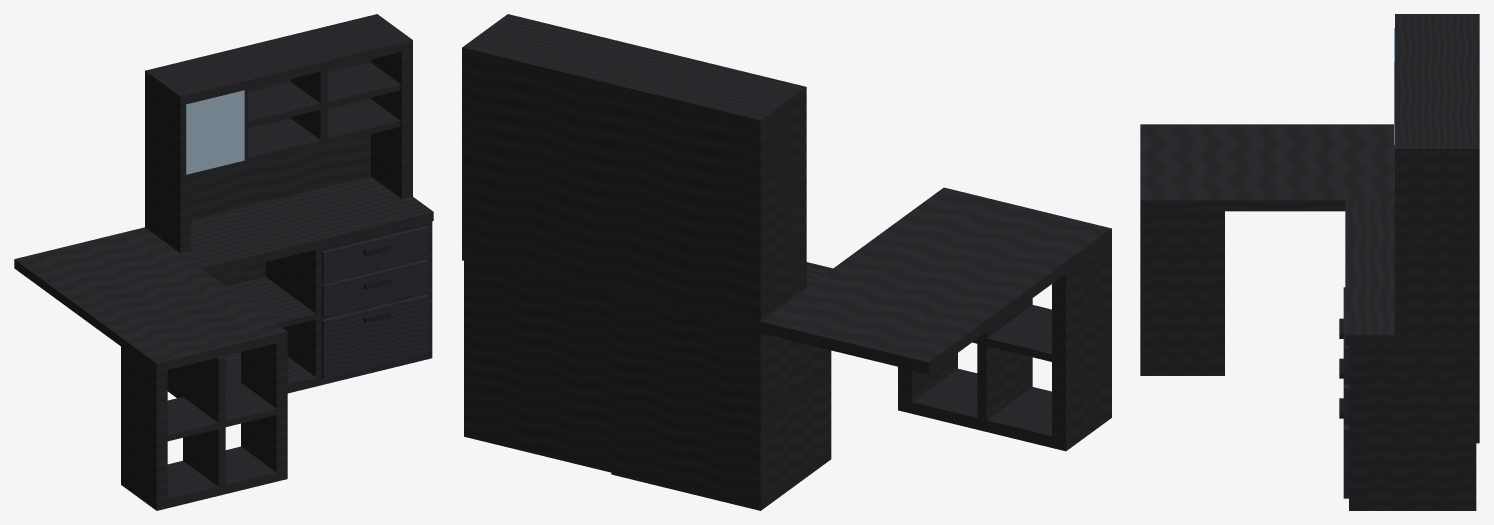
3 renders of one model, left to right at view 1: azimuth 30°, elevation 25°; view 2: azimuth 150°, elevation 25°; view 3: azimuth 270°, elevation 25°, orthographic. The views are drawn at different scales.
Visible parts, largest first — view 1: 1 left_desktop, 7 right_desktop, 22 hutch_top_panel, 19 hutch_back_panel, 2 front_left_outer_panel, 15 file_drawer_front, 20 hutch_left_side, 12 drawer_cabinet_body, 3 front_left_inner_panel, 23 hutch_bottom_shelf, 21 hutch_right_side, 24 hutch_upper_shelf (+10 smaller); view 2: 19 hutch_back_panel, 1 left_desktop, 8 under_desk_shelf_back, 12 drawer_cabinet_body, 22 hutch_top_panel, 2 front_left_outer_panel, 20 hutch_left_side, 11 under_desk_left_side, 4 front_left_bottom_panel, 7 right_desktop, 6 front_left_divider, 5 front_left_mid_shelf (+2 smaller); view 3: 1 left_desktop, 12 drawer_cabinet_body, 21 hutch_right_side, 3 front_left_inner_panel, 22 hutch_top_panel, 7 right_desktop, 19 hutch_back_panel, 4 front_left_bottom_panel, 15 file_drawer_front, 13 top_drawer_front, 8 under_desk_shelf_back.
Part boxes in pixels (x1,y1,x2,y2): 1 left_desktop: [14, 227, 287, 372]; 7 right_desktop: [181, 176, 433, 275]; 22 hutch_top_panel: [145, 14, 412, 105]; 19 hutch_back_panel: [145, 59, 370, 229]; 2 front_left_outer_panel: [121, 347, 167, 510]; 15 file_drawer_front: [321, 294, 428, 378]; 20 hutch_left_side: [145, 76, 191, 253]; 12 drawer_cabinet_body: [265, 221, 432, 386]; 3 front_left_inner_panel: [241, 339, 287, 481]; 23 hutch_bottom_shelf: [191, 99, 400, 177]; 21 hutch_right_side: [371, 41, 412, 199]; 24 hutch_upper_shelf: [244, 62, 400, 127]; 19 hutch_back_panel: [462, 49, 766, 321]; 1 left_desktop: [760, 187, 1111, 373]; 8 under_desk_shelf_back: [611, 296, 766, 510]; 12 drawer_cabinet_body: [464, 261, 611, 472]; 22 hutch_top_panel: [462, 14, 806, 130]; 2 front_left_outer_panel: [1052, 239, 1111, 451]; 20 hutch_left_side: [746, 89, 806, 320]; 11 under_desk_left_side: [762, 334, 831, 506]; 4 front_left_bottom_panel: [898, 368, 1111, 450]; 7 right_desktop: [462, 248, 832, 332]; 6 front_left_divider: [977, 298, 1032, 427]; 5 front_left_mid_shelf: [972, 305, 1058, 363]; 1 left_desktop: [1140, 124, 1394, 211]; 12 drawer_cabinet_body: [1349, 344, 1476, 510]; 21 hutch_right_side: [1395, 151, 1479, 335]; 3 front_left_inner_panel: [1140, 209, 1224, 375]; 22 hutch_top_panel: [1395, 14, 1479, 159]; 7 right_desktop: [1345, 200, 1479, 346]; 19 hutch_back_panel: [1469, 151, 1479, 335]; 4 front_left_bottom_panel: [1140, 365, 1224, 375]; 15 file_drawer_front: [1343, 424, 1348, 498]; 13 top_drawer_front: [1343, 287, 1348, 384]; 8 under_desk_shelf_back: [1476, 346, 1479, 443].
Bounding box in the file's own units: 1.25 × 1 × 0.85.
4 materials, 2 textured.
